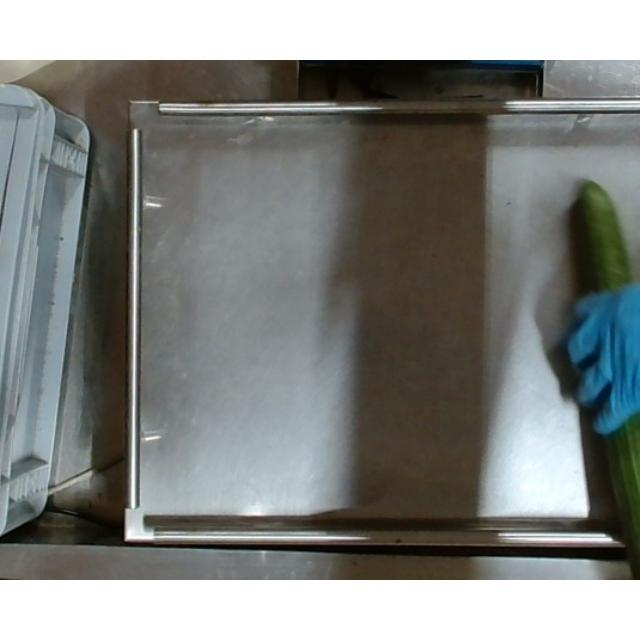cucumber: (560, 180, 640, 580)
